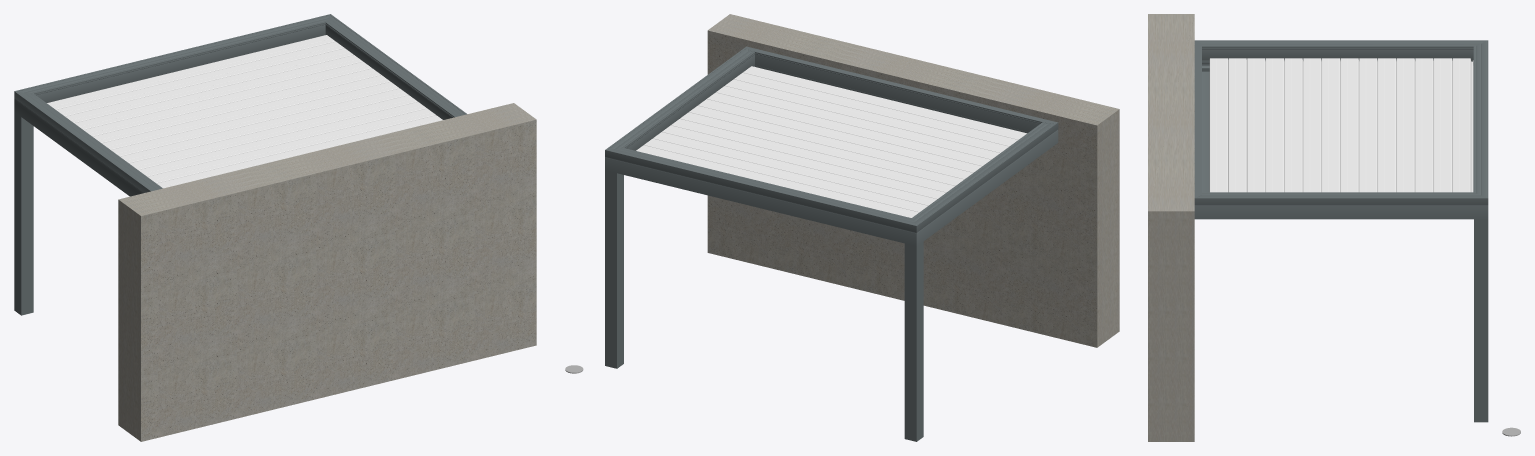
Rendered from modelo.glb.
3 views of the same model, side by side, from view 1: azimuth 30°, elevation 25°; view 2: azimuth 150°, elevation 25°; view 3: azimuth 270°, elevation 25° (orthographic). The views are drawn at different scales.
Parts seen in each view (by area): view 1: mur, BandeauAV, BandeauD, Poteau, BandeauG, Lame_PergolaBIO+2, Lame_PergolaBIO+4, Lame_PergolaBIO+12, Lame_PergolaBIO+3, Lame_PergolaBIO+5, Lame_PergolaBIO+9, Lame_PergolaBIO+11 (+6 smaller); view 2: mur, BandeauAV, Poteau (×2), BandeauAR, BandeauD, BandeauG, Lame_PergolaBIO+3, Lame_PergolaBIO+11, Lame_PergolaBIO+10, Lame_PergolaBIO+13, Lame_PergolaBIO+4, Lame_PergolaBIO+5 (+7 smaller); view 3: mur, BandeauG, BandeauD, Poteau, Lame_PergolaBIO+1, Lame_PergolaBIO+4, Lame_PergolaBIO+7, Lame_PergolaBIO+10, Lame_PergolaBIO+14, Lame_PergolaBIO+3, Lame_PergolaBIO+6, Lame_PergolaBIO+9 (+8 smaller).
Part boxes in pixels (<box>): mur: <box>118,103,536,441</box>; BandeauAV: <box>14,14,330,102</box>; BandeauD: <box>14,91,162,196</box>; Poteau: <box>14,112,33,315</box>; BandeauG: <box>325,14,467,119</box>; Lame_PergolaBIO+2: <box>56,41,344,116</box>; Lame_PergolaBIO+4: <box>74,55,362,129</box>; Lame_PergolaBIO+12: <box>147,108,435,183</box>; Lame_PergolaBIO+3: <box>65,48,353,122</box>; Lame_PergolaBIO+5: <box>84,61,371,136</box>; Lame_PergolaBIO+9: <box>120,88,408,163</box>; Lame_PergolaBIO+11: <box>138,102,426,176</box>; mur: <box>707,14,1119,347</box>; BandeauAV: <box>605,148,916,245</box>; Poteau (×2): <box>605,170,923,441</box>; BandeauAR: <box>747,47,1058,133</box>; BandeauD: <box>911,122,1058,245</box>; BandeauG: <box>605,46,754,150</box>; Lame_PergolaBIO+3: <box>644,138,927,212</box>; Lame_PergolaBIO+11: <box>716,86,999,159</box>; Lame_PergolaBIO+10: <box>707,92,990,166</box>; Lame_PergolaBIO+13: <box>734,72,1017,146</box>; Lame_PergolaBIO+4: <box>653,132,936,205</box>; Lame_PergolaBIO+5: <box>662,125,945,199</box>; mur: <box>1148,14,1194,441</box>; BandeauG: <box>1194,192,1488,219</box>; BandeauD: <box>1194,40,1487,71</box>; Poteau: <box>1474,219,1488,422</box>; Lame_PergolaBIO+1: <box>1452,58,1473,192</box>; Lame_PergolaBIO+4: <box>1396,58,1415,192</box>; Lame_PergolaBIO+7: <box>1340,58,1359,192</box>; Lame_PergolaBIO+10: <box>1284,58,1303,192</box>; Lame_PergolaBIO+14: <box>1209,58,1228,192</box>; Lame_PergolaBIO+3: <box>1415,58,1433,192</box>; Lame_PergolaBIO+6: <box>1359,58,1377,192</box>; Lame_PergolaBIO+9: <box>1303,58,1321,192</box>.
Size of what is drawn, in the model's own units: 5 by 2.73 by 4.
4 materials, 1 textured.
